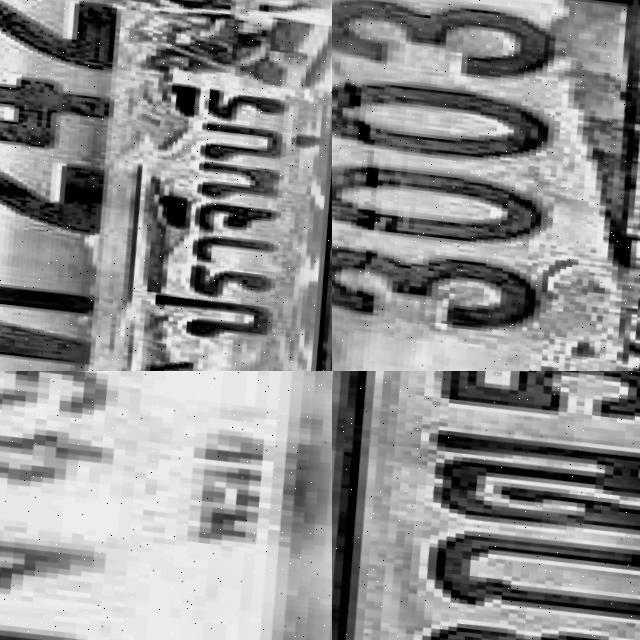license-plate: (0, 0, 332, 371), (332, 0, 640, 371), (0, 371, 332, 640), (332, 371, 640, 640)
